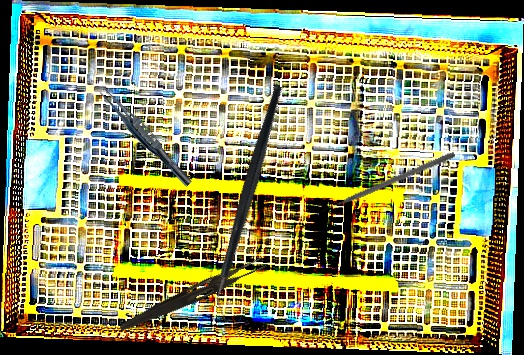Chopper: (146, 83, 355, 320)
Dressing Forceps: (118, 251, 267, 339)
Pusher: (319, 149, 456, 215)
Tissue Forceps: (94, 84, 197, 189)
